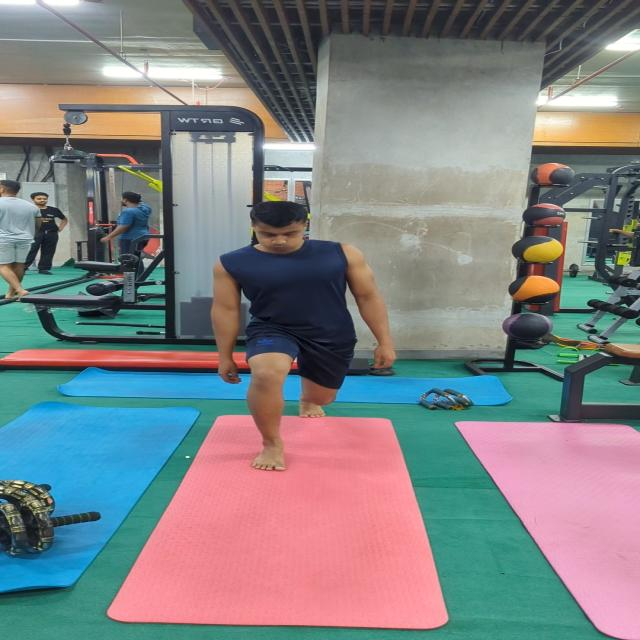Normal_Lunges: (204, 196, 400, 477)
